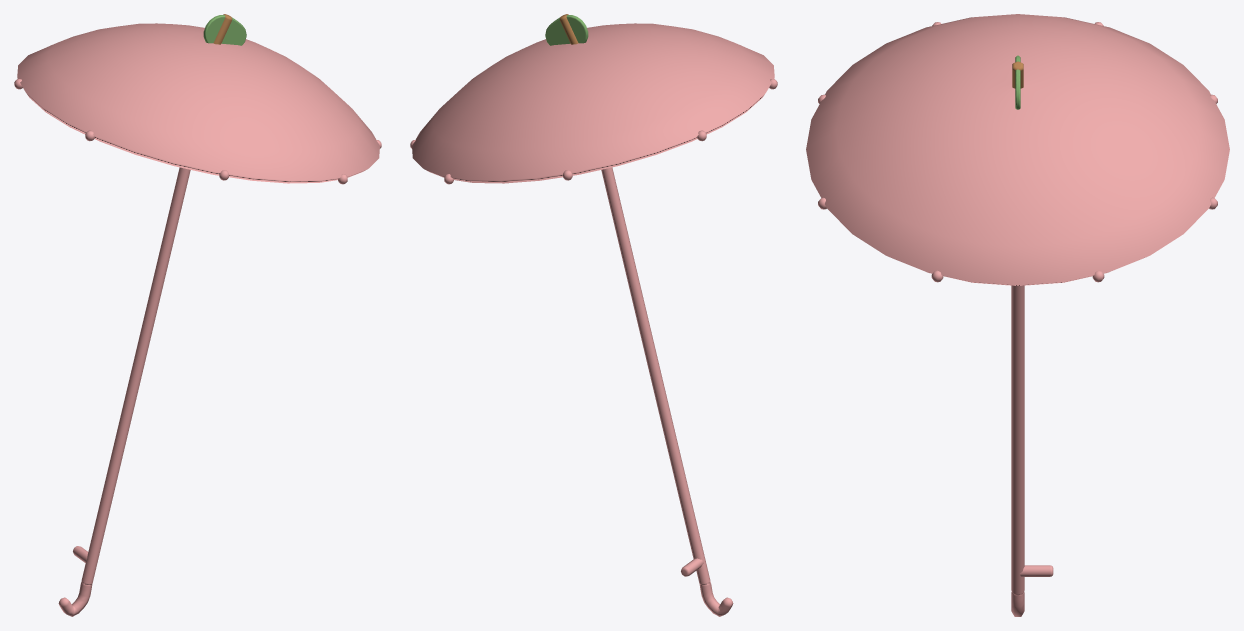
The model's file is peach_umbrella.glb.
The picture shows the model from 3 angles, left to right: view 1: azimuth 30°, elevation 25°; view 2: azimuth 150°, elevation 25°; view 3: azimuth 270°, elevation 25°; orthographic projection. The views are drawn at different scales.
Visible parts, largest first — view 1: peach_umbrella_ArmR; view 2: peach_umbrella_ArmR; view 3: peach_umbrella_ArmR.
Part boxes in pixels (x1,y1,x2,y2): peach_umbrella_ArmR: (14, 14, 381, 616); peach_umbrella_ArmR: (410, 14, 777, 616); peach_umbrella_ArmR: (806, 14, 1229, 616).
Size of the model in its own units: 0.8703 by 1.5 by 0.9.
